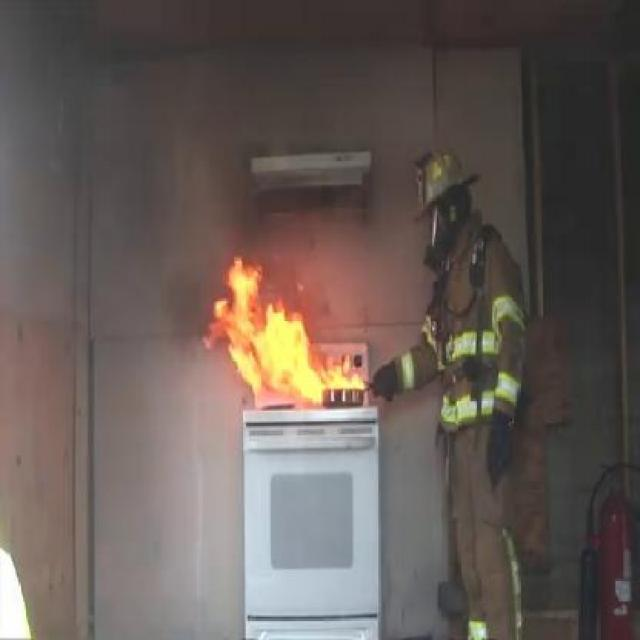fire: (212, 258, 362, 392)
